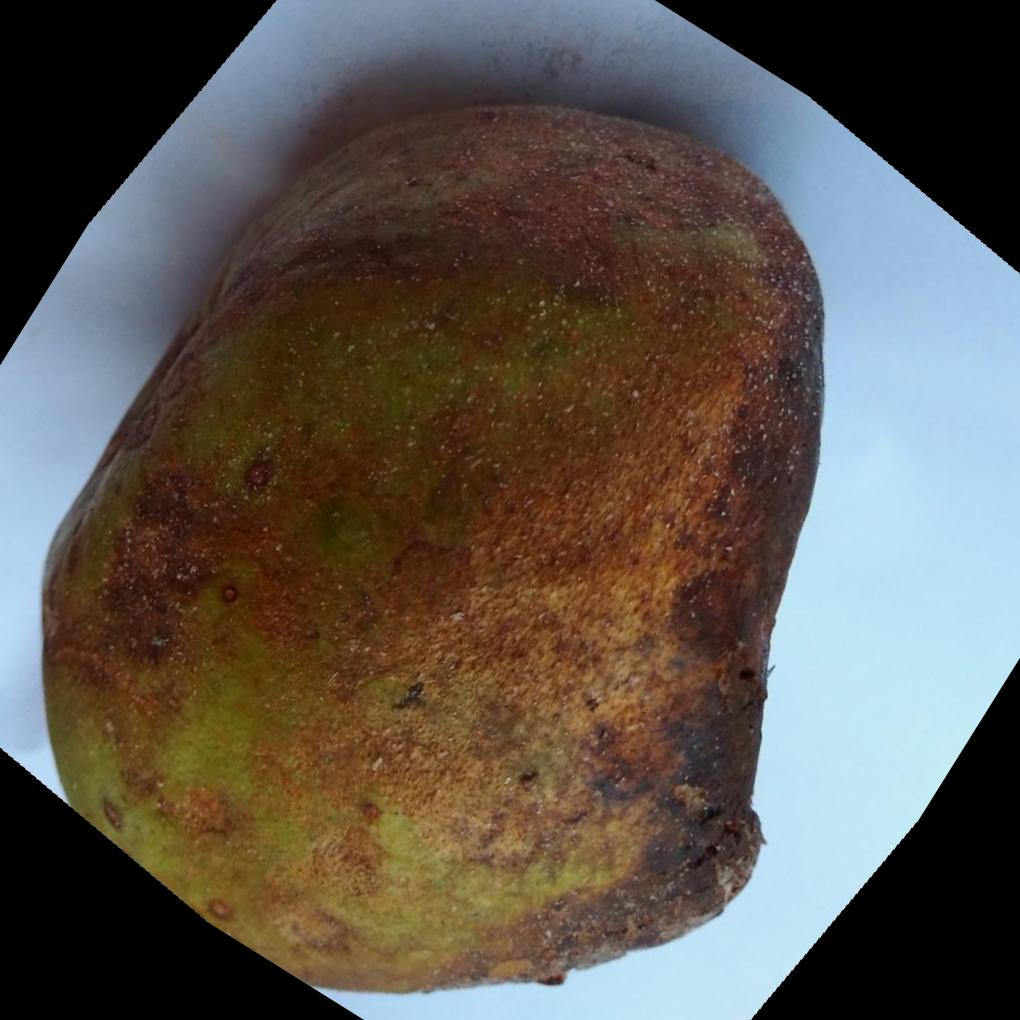FreshOrange: (40, 101, 829, 998)
